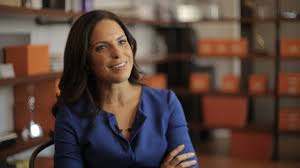black_female: (81, 19, 140, 91)
